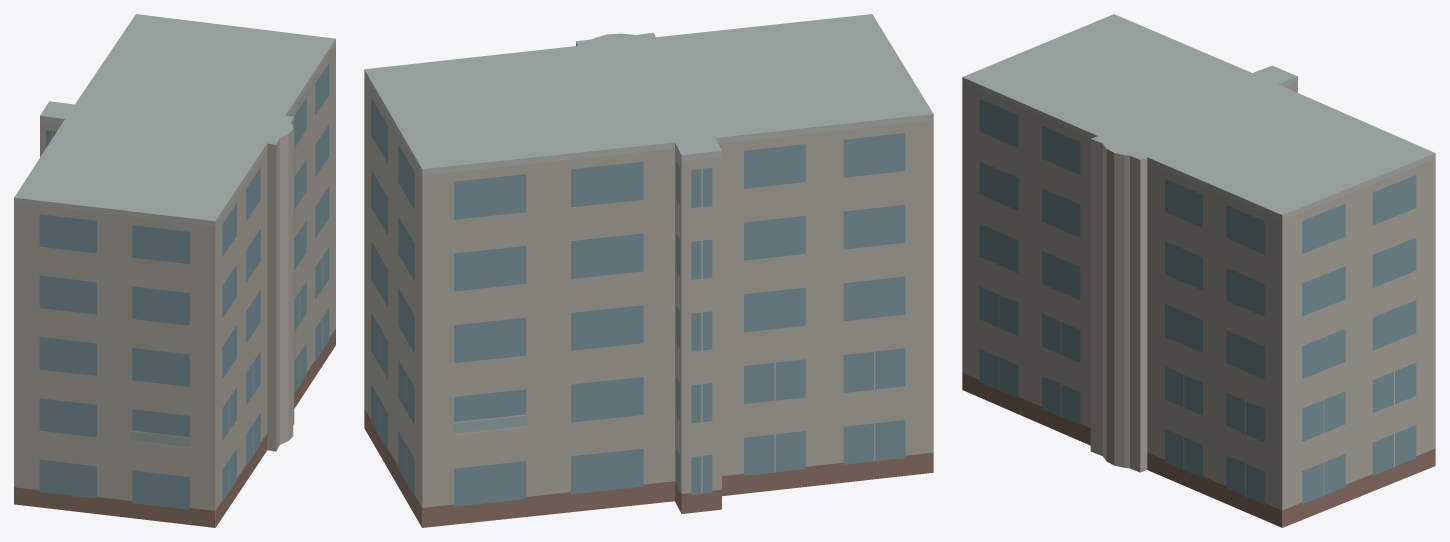
Rendered from survey-upis-32503965.glb.
3 renders of one model, left to right at view 1: azimuth 30°, elevation 25°; view 2: azimuth 150°, elevation 25°; view 3: azimuth 270°, elevation 25°, orthographic. The views are drawn at different scales.
Parts seen in each view (by area): view 1: survey-upis-32503965.tmp; view 2: survey-upis-32503965.tmp; view 3: survey-upis-32503965.tmp.
Part boxes in pixels (x1,y1,x2,y2): survey-upis-32503965.tmp: (14,14,335,527); survey-upis-32503965.tmp: (364,14,933,527); survey-upis-32503965.tmp: (962,14,1435,527).
Bounding box in the file's own units: 19.87 × 14.4 × 19.76.
